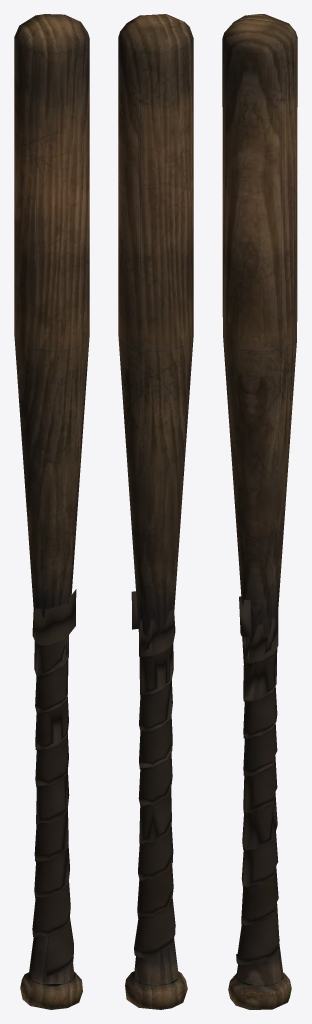
Rendered from baseball_bat.glb.
3 renders of one model, left to right at view 1: azimuth 30°, elevation 25°; view 2: azimuth 210°, elevation 25°; view 3: azimuth 270°, elevation 25°, orthographic.
Visible parts, largest first — view 1: baseball_bat; view 2: baseball_bat; view 3: baseball_bat.
Boxes of the visible parts, box(x1,y1,x2,y2) form: baseball_bat: box(14, 14, 89, 1009); baseball_bat: box(118, 14, 193, 1009); baseball_bat: box(222, 14, 297, 1009).
Bounding box in the file's own units: 0.0627 × 0.9118 × 0.0635.
1 material, 1 textured.
